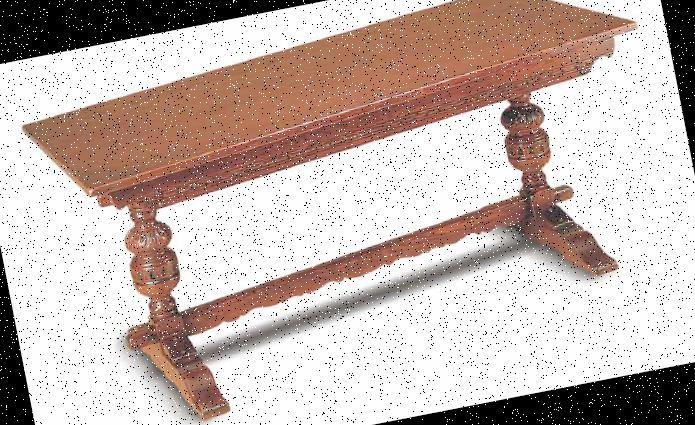Mesa: (14, 0, 691, 424)
